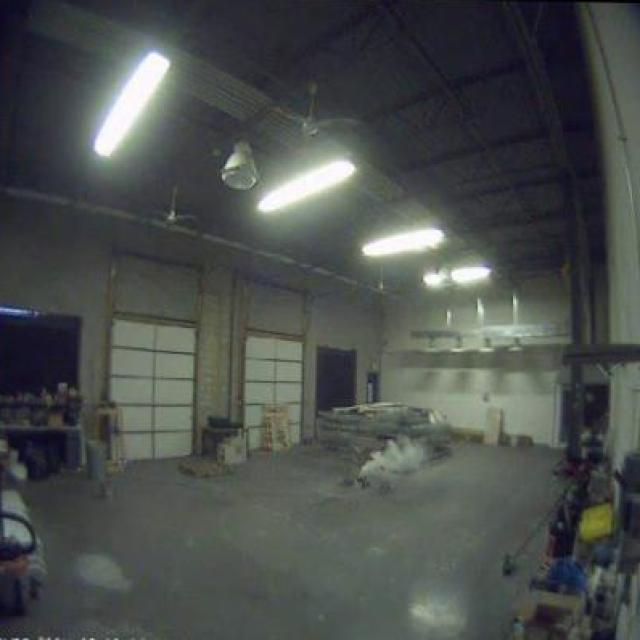fire: (356, 432, 429, 486)
